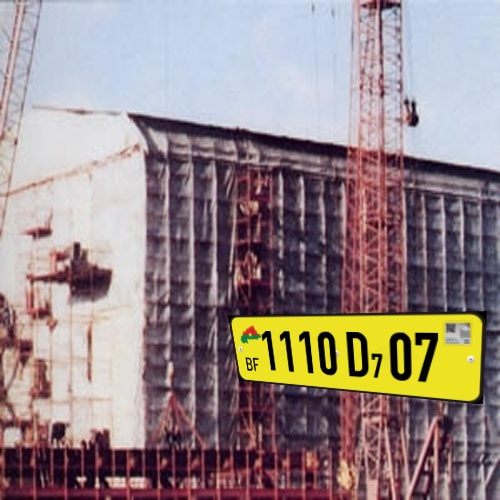plate: (221, 304, 492, 414)
